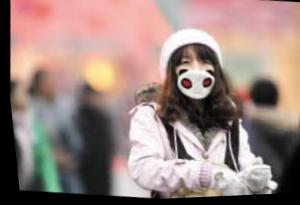WRONG: (169, 56, 219, 105)
